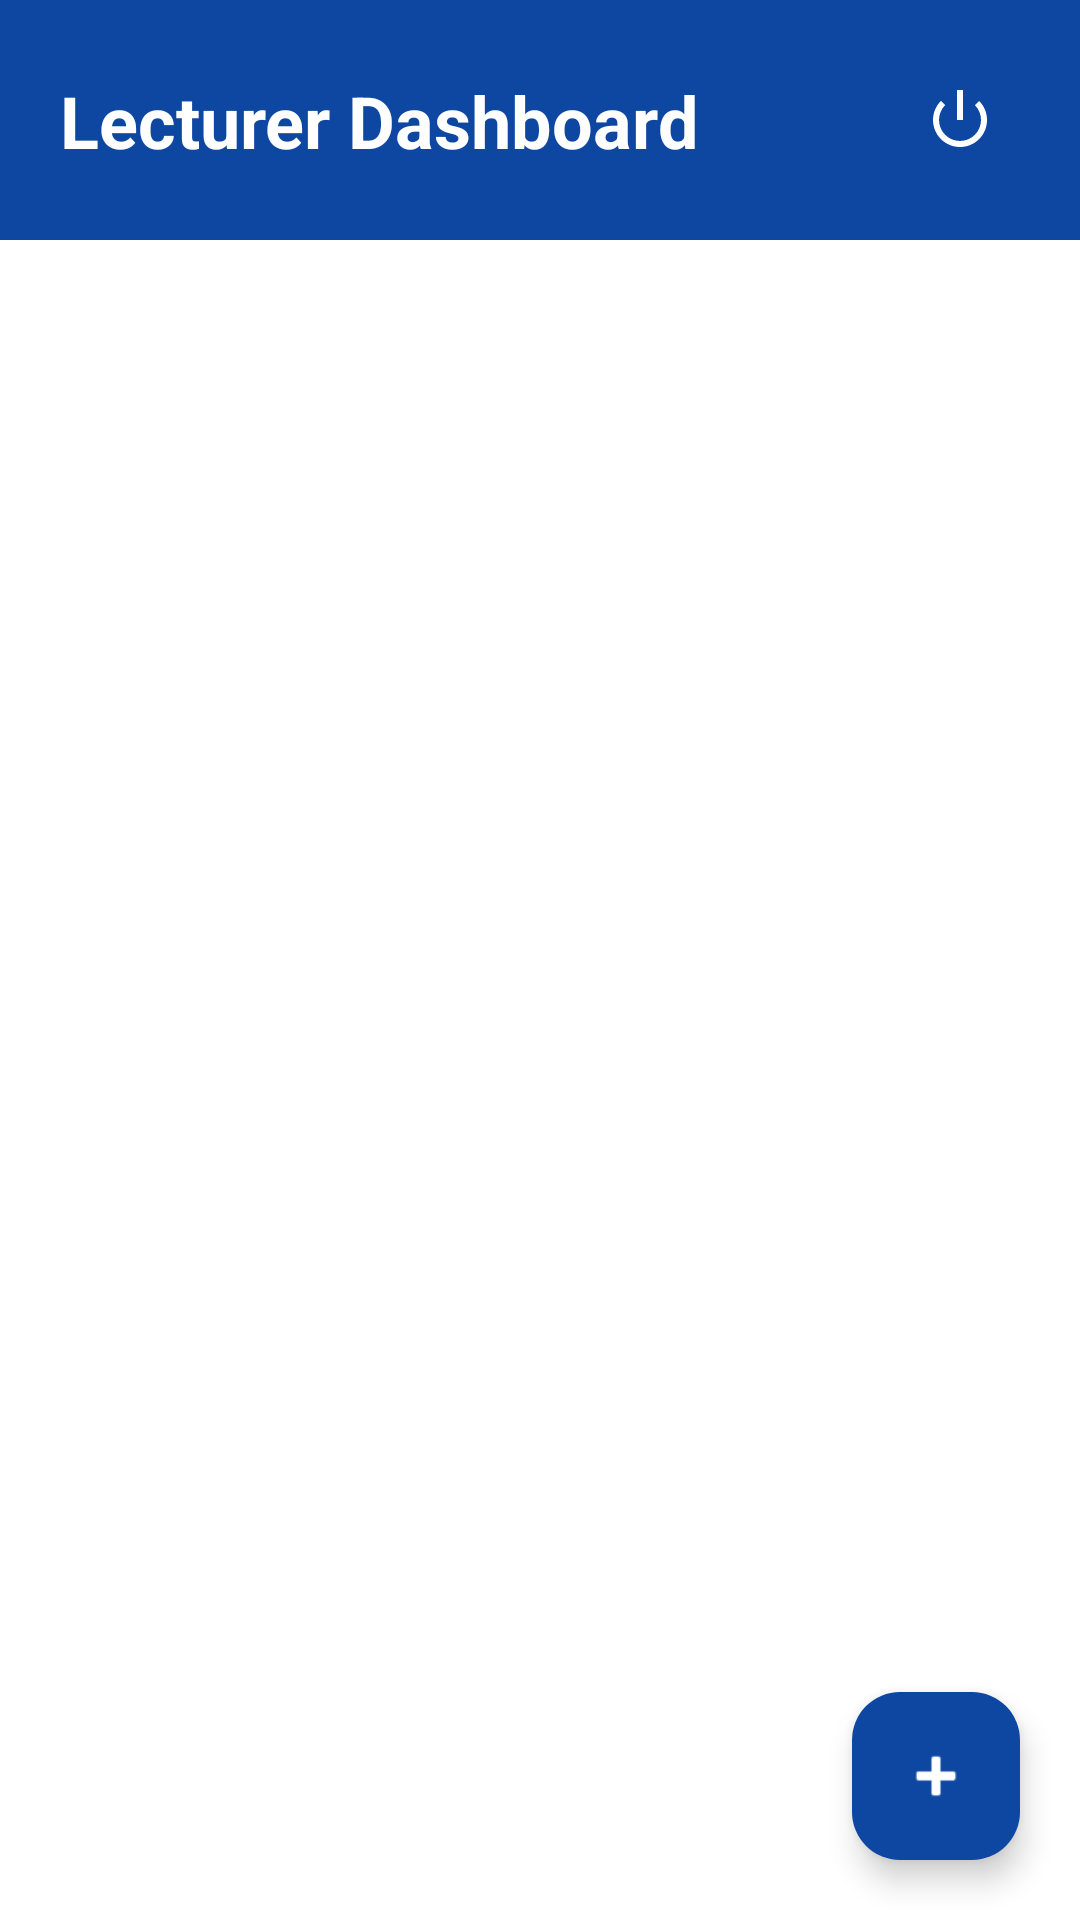

Icons on this 1080x1920 Android screen, each with its box as (x1, y1, x2, y2):
add: (852, 1692, 1020, 1860)
lock power off: (933, 90, 987, 147)
